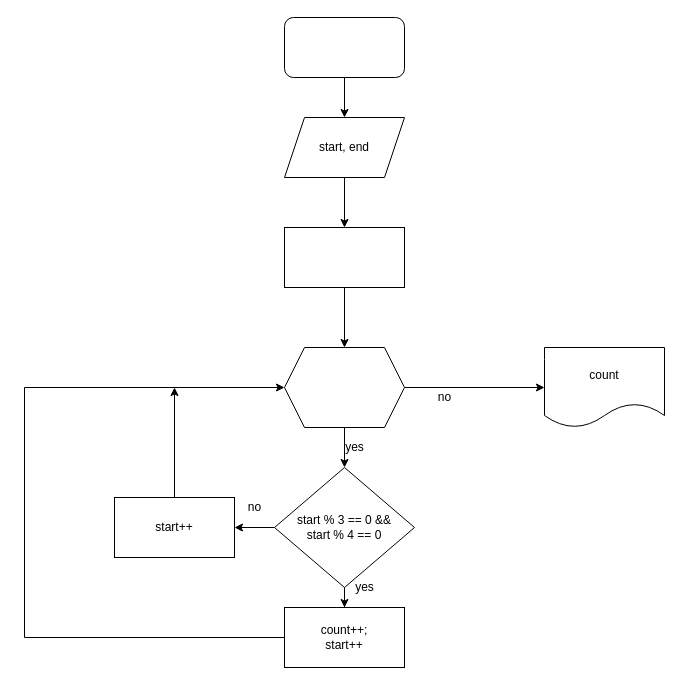
Image size: 682x685. Some labels were removed from this diagram. The centre of each missing label's shape, as x and y in pixels:
count = 0: the point at 344,257
START: the point at 344,47
start < end: the point at 344,387
